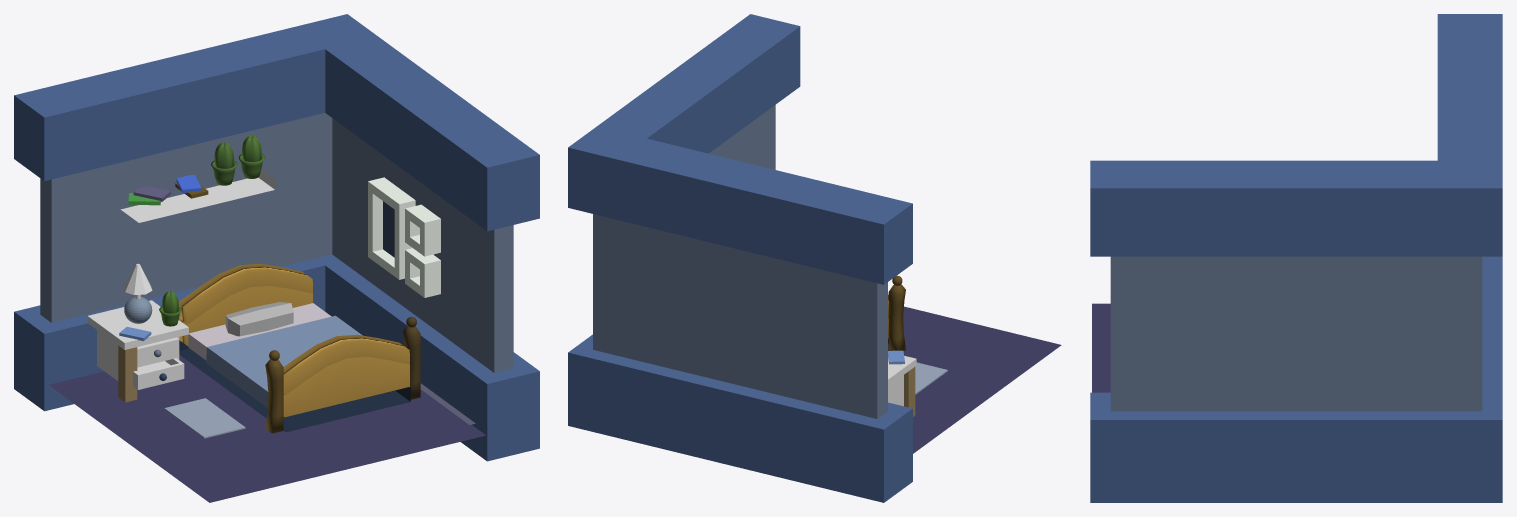
The model's file is projetBedroom.gltf.
3 views of the same model, side by side, from view 1: azimuth 30°, elevation 25°; view 2: azimuth 150°, elevation 25°; view 3: azimuth 270°, elevation 25° (orthographic). The views are drawn at different scales.
Visible parts, largest first — view 1: Cube, Sol, litExtrem, fenetre, litExtrem.001, CouvertureLit, TableNuit, litbase, haut_lit, tapi, mkhada, litbase.001 (+7 smaller); view 2: Cube, Sol, Plane, TableNuit, tapi; view 3: Cube, Sol.
Part boxes in pixels (box(x1,y1,x2,y2)): Cube: box(14, 14, 539, 461); Sol: box(49, 355, 485, 502); litExtrem: box(283, 334, 409, 417); fenetre: box(368, 177, 440, 297); litExtrem.001: box(178, 263, 312, 345); CouvertureLit: box(206, 315, 362, 407); TableNuit: box(87, 300, 188, 389); litbase: box(179, 340, 410, 432); haut_lit: box(120, 169, 274, 222); tapi: box(164, 398, 245, 438); mkhada: box(225, 302, 293, 336); litbase.001: box(188, 303, 331, 360); Cube: box(568, 14, 912, 502); Sol: box(903, 306, 1061, 453); Plane: box(888, 275, 905, 351); TableNuit: box(888, 356, 916, 406); tapi: box(915, 362, 947, 394); Cube: box(1090, 14, 1502, 502); Sol: box(1092, 303, 1110, 392).
Size of what is drawn, in the model's own units: 2.38 by 2 by 2.38.
